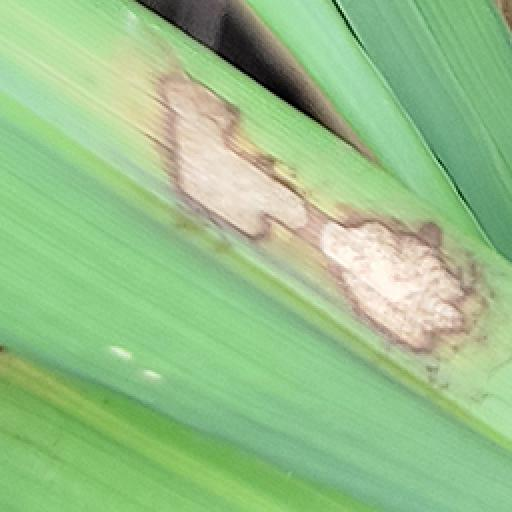Leaf Blast Disease: (320, 158, 500, 402), (124, 46, 316, 256)
